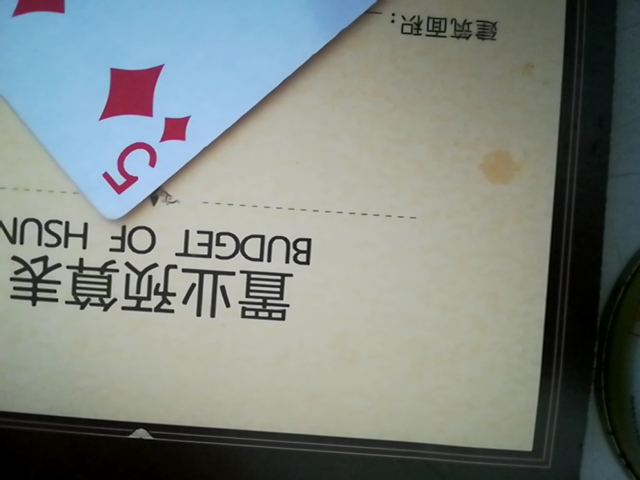fk 5: (3, 1, 522, 228)
